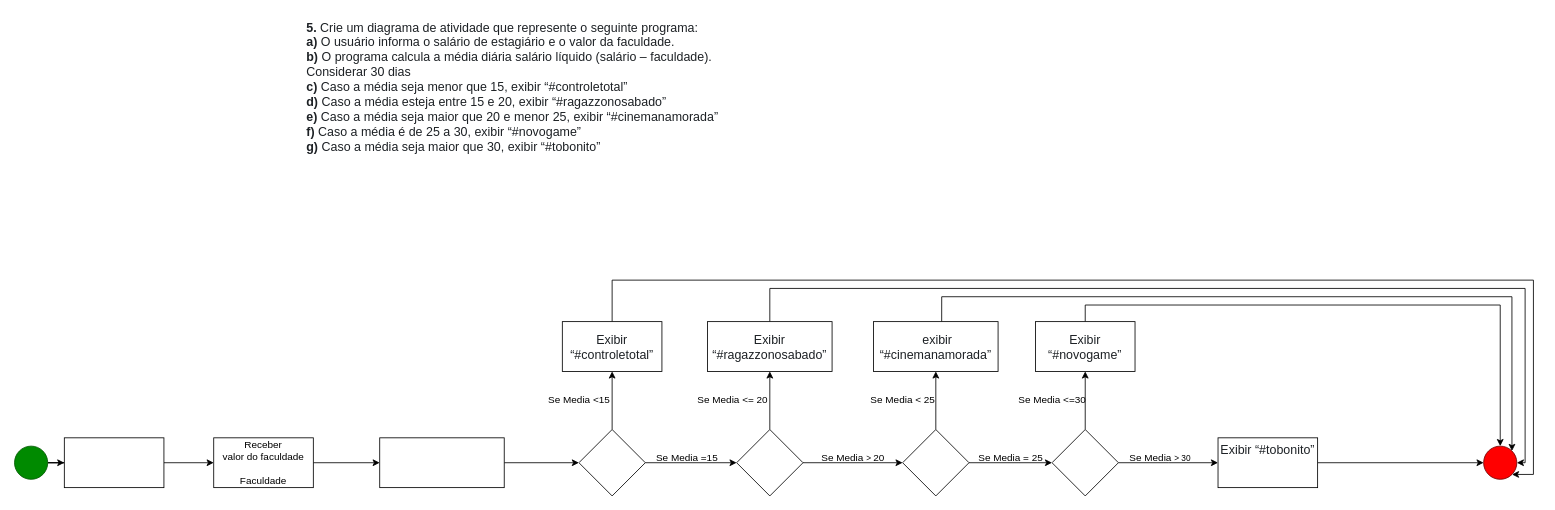
The diagram is 1555 pixels wide and 510 high, and some of its shapes have lost their labels. The shapes that lost their labels are listed below. From the top down, each one's box as (x1, y1, x2, y2) in pixels, then its label:
(63, 437, 164, 488): Receber valor do salario Salario
(379, 437, 504, 488): Calcular media Media=$(salario-faculdade)
